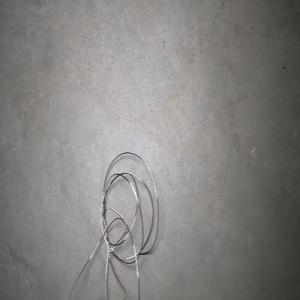Wire: (68, 152, 159, 300)
